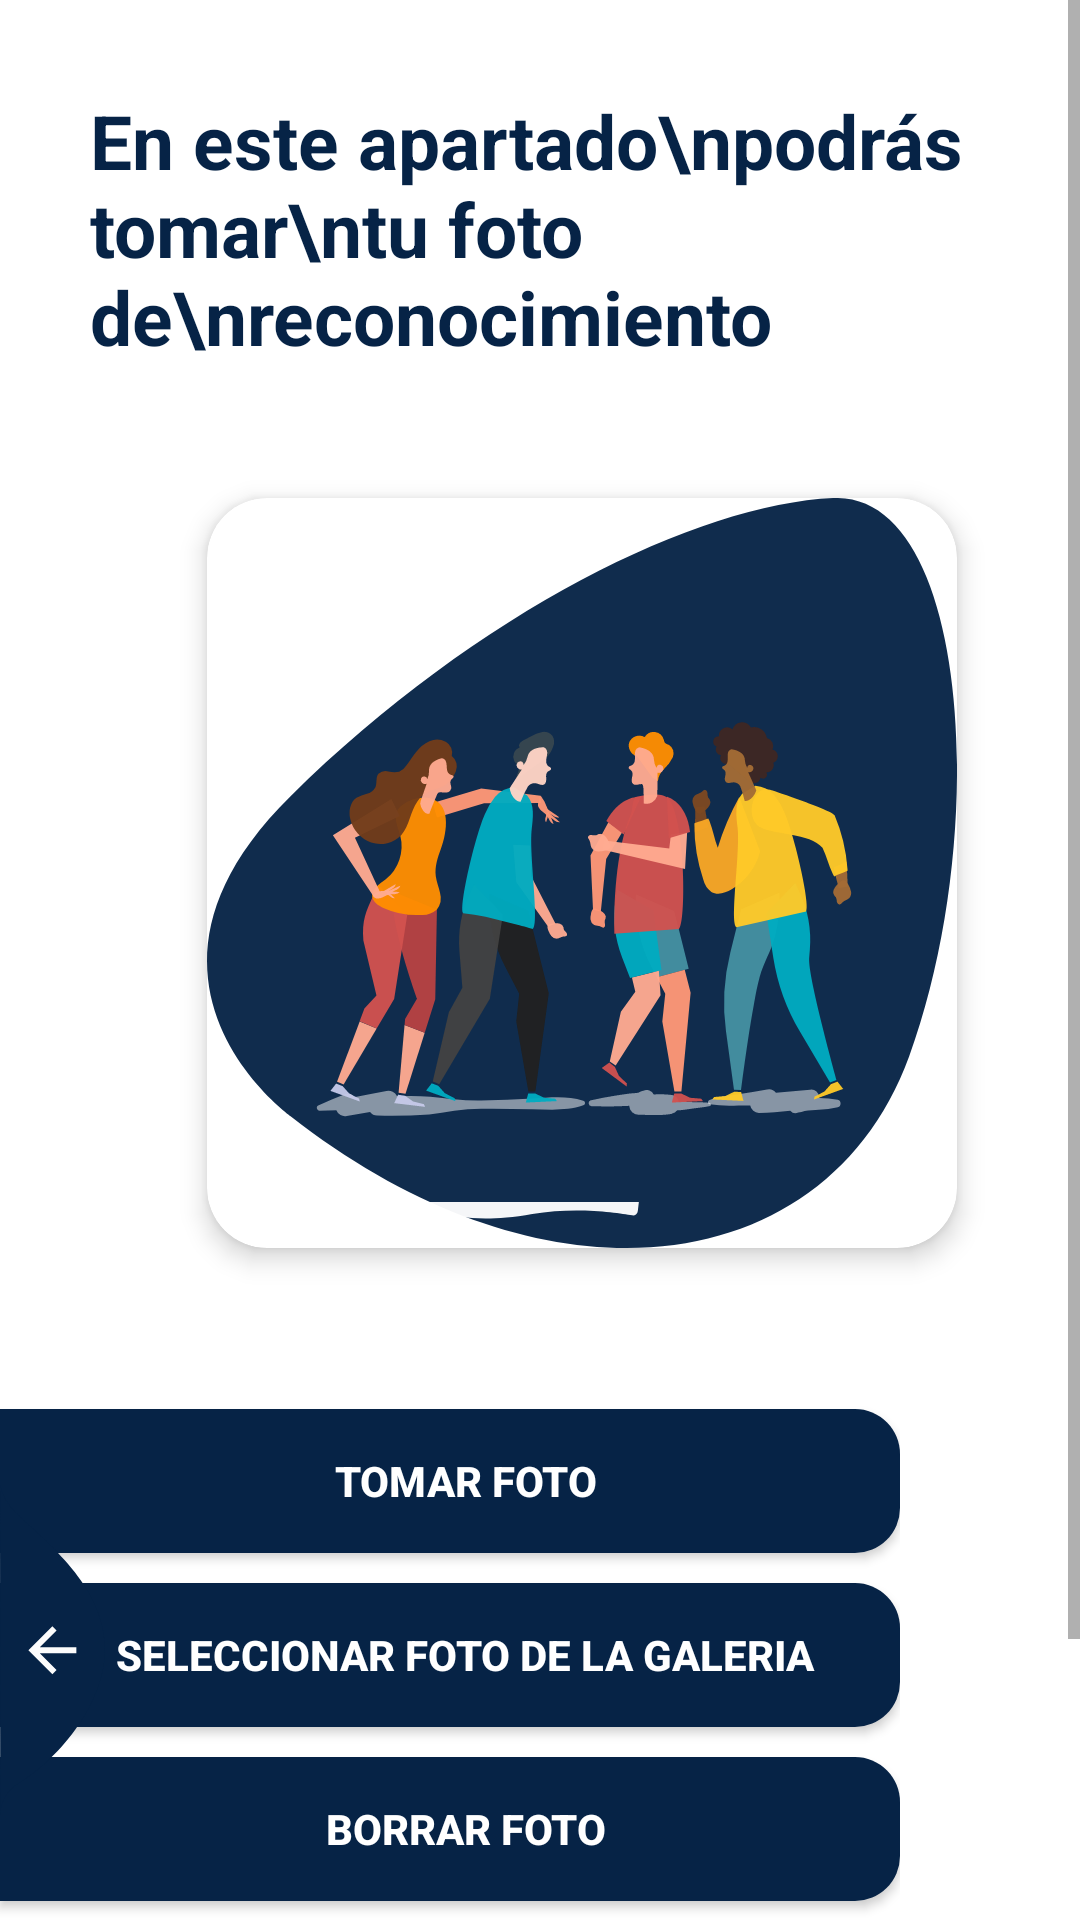

Where icons sit on this 1080x1920 app screen, as (x1, y1, x2, y2):
back verde: (0, 1553, 105, 1757)
